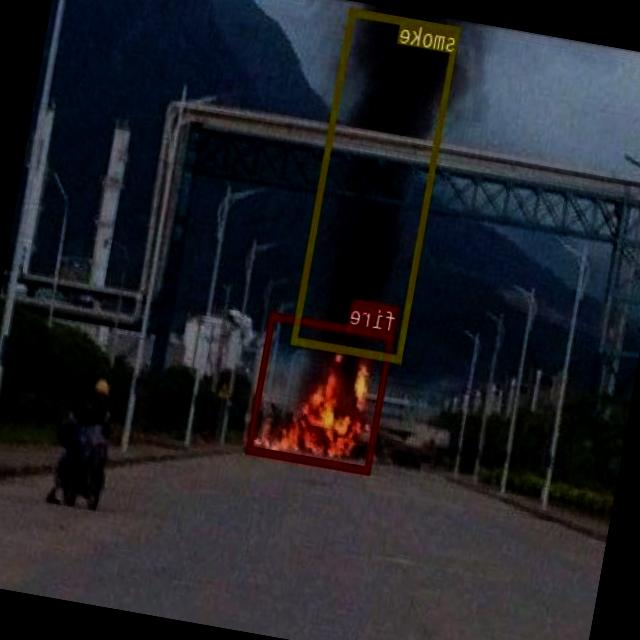fire: (248, 310, 396, 473)
smoke: (293, 8, 462, 362)
